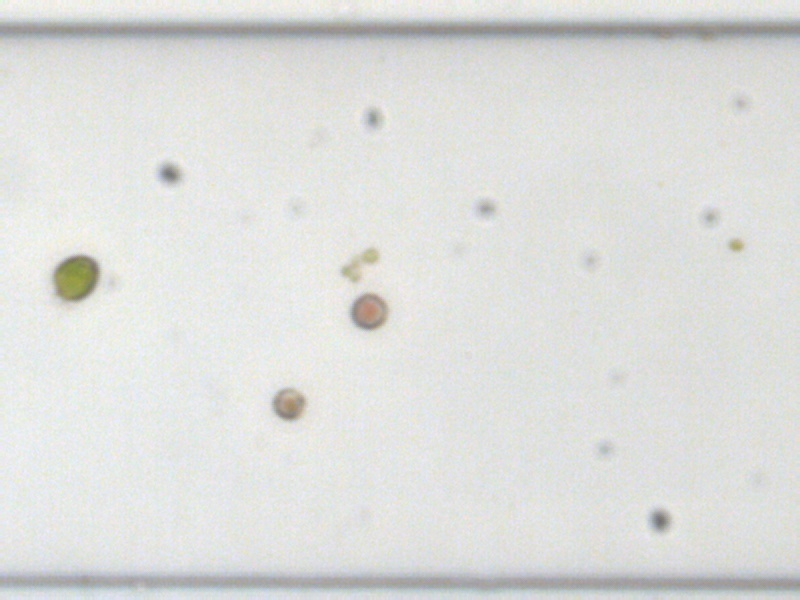Chlorella: (340, 263, 358, 280), (361, 246, 378, 262), (727, 236, 744, 252)
Platymonas: (49, 251, 100, 303)
Porphyridium: (348, 290, 387, 331), (269, 386, 307, 420)
